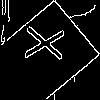X: (25, 25, 74, 63)
